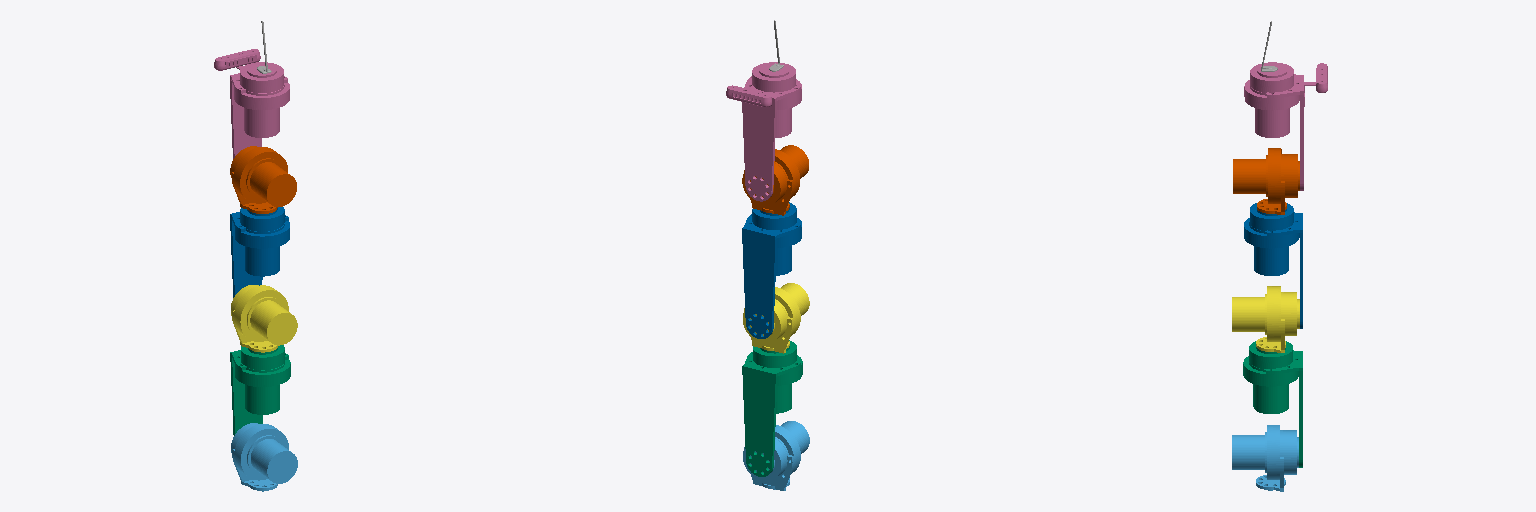
The robot description file, URDF, robot "simple7sky":
<?xml version="1.0" ?>
<!-- =================================================================================== -->
<!-- |    This document was autogenerated by xacro from simple7sky.xacro               | -->
<!-- |    EDITING THIS FILE BY HAND IS NOT RECOMMENDED                                 | -->
<!-- =================================================================================== -->
<robot name="simple7sky">
  <link name="base_link">
    <inertial>
      <origin rpy="0 0 0" xyz="6.16526679736714e-15 5.050387435335943e-06 0.06094638477109512"/>
      <mass value="18.250474833074623"/>
      <inertia ixx="0.085361" ixy="0.0" ixz="0.0" iyy="0.108511" iyz="5e-06" izz="0.096599"/>
    </inertial>
    <visual>
      <origin rpy="0 0 0" xyz="0 0 0"/>
      <geometry>
        <mesh filename="meshes_simple7sky/base_link.stl" scale="0.001 0.001 0.001"/>
      </geometry>
      <material name="silver"/>
    </visual>
    <collision>
      <origin rpy="0 0 0" xyz="0 0 0"/>
      <geometry>
        <mesh filename="meshes_simple7sky/base_link.stl" scale="0.001 0.001 0.001"/>
      </geometry>
    </collision>
  </link>
  <link name="jHor_1">
    <inertial>
      <origin rpy="0 0 0" xyz="-4.8107555643006375e-12 -0.002612981250012781 0.06374127790658082"/>
      <mass value="5.564807768189837"/>
      <inertia ixx="0.009595" ixy="0.0" ixz="-0.0" iyy="0.006139" iyz="0.000184" izz="0.008949"/>
    </inertial>
    <visual>
      <origin rpy="0 0 0" xyz="-0.0 0.0 -0.172"/>
      <geometry>
        <mesh filename="meshes_simple7sky/jHor_1.stl" scale="0.001 0.001 0.001"/>
      </geometry>
      <material name="silver"/>
    </visual>
    <collision>
      <origin rpy="0 0 0" xyz="-0.0 0.0 -0.172"/>
      <geometry>
        <mesh filename="meshes_simple7sky/jHor_1.stl" scale="0.001 0.001 0.001"/>
      </geometry>
    </collision>
  </link>
  <link name="jVert_1">
    <inertial>
      <origin rpy="0 0 0" xyz="-6.0049164284592393e-05 -0.04561655987937348 0.1586778161452157"/>
      <mass value="6.178248990841839"/>
      <inertia ixx="0.018277" ixy="-3e-06" ixz="4e-06" iyy="0.016375" iyz="0.002854" izz="0.007856"/>
    </inertial>
    <visual>
      <origin rpy="0 0 0" xyz="-0.0 -0.0546 -0.23846"/>
      <geometry>
        <mesh filename="meshes_simple7sky/jVert_1.stl" scale="0.001 0.001 0.001"/>
      </geometry>
      <material name="silver"/>
    </visual>
    <collision>
      <origin rpy="0 0 0" xyz="-0.0 -0.0546 -0.23846"/>
      <geometry>
        <mesh filename="meshes_simple7sky/jVert_1.stl" scale="0.001 0.001 0.001"/>
      </geometry>
    </collision>
  </link>
  <link name="jHor_2">
    <inertial>
      <origin rpy="0 0 0" xyz="-2.840068382461294e-06 -0.0026129392168440235 0.06374088361947128"/>
      <mass value="5.564807768189837"/>
      <inertia ixx="0.009595" ixy="-4e-06" ixz="0.0" iyy="0.006139" iyz="0.000184" izz="0.008949"/>
    </inertial>
    <visual>
      <origin rpy="0 0 0" xyz="7e-05 -0.0011 -0.46446"/>
      <geometry>
        <mesh filename="meshes_simple7sky/jHor_2.stl" scale="0.001 0.001 0.001"/>
      </geometry>
      <material name="silver"/>
    </visual>
    <collision>
      <origin rpy="0 0 0" xyz="7e-05 -0.0011 -0.46446"/>
      <geometry>
        <mesh filename="meshes_simple7sky/jHor_2.stl" scale="0.001 0.001 0.001"/>
      </geometry>
    </collision>
  </link>
  <link name="jVert_2">
    <inertial>
      <origin rpy="0 0 0" xyz="-0.00011250550588334606 -0.045616456265365965 0.1586784218581061"/>
      <mass value="6.178248990841839"/>
      <inertia ixx="0.018277" ixy="-5e-06" ixz="7e-06" iyy="0.016375" iyz="0.002854" izz="0.007856"/>
    </inertial>
    <visual>
      <origin rpy="0 0 0" xyz="7e-06 -0.0557 -0.530919"/>
      <geometry>
        <mesh filename="meshes_simple7sky/jVert_2.stl" scale="0.001 0.001 0.001"/>
      </geometry>
      <material name="silver"/>
    </visual>
    <collision>
      <origin rpy="0 0 0" xyz="7e-06 -0.0557 -0.530919"/>
      <geometry>
        <mesh filename="meshes_simple7sky/jVert_2.stl" scale="0.001 0.001 0.001"/>
      </geometry>
    </collision>
  </link>
  <link name="jHor_3">
    <inertial>
      <origin rpy="0 0 0" xyz="-6.410501020342579e-06 -0.002612813850000863 0.06374148933236179"/>
      <mass value="5.564807768189837"/>
      <inertia ixx="0.009595" ixy="-8e-06" ixz="0.0" iyy="0.006139" iyz="0.000184" izz="0.008949"/>
    </inertial>
    <visual>
      <origin rpy="0 0 0" xyz="0.000138 -0.0022 -0.756919"/>
      <geometry>
        <mesh filename="meshes_simple7sky/jHor_3.stl" scale="0.001 0.001 0.001"/>
      </geometry>
      <material name="silver"/>
    </visual>
    <collision>
      <origin rpy="0 0 0" xyz="0.000138 -0.0022 -0.756919"/>
      <geometry>
        <mesh filename="meshes_simple7sky/jHor_3.stl" scale="0.001 0.001 0.001"/>
      </geometry>
    </collision>
  </link>
  <link name="joint7_1">
    <inertial>
      <origin rpy="0 0 0" xyz="-0.000150609344771667 -0.04097073665289449 0.16118762381583218"/>
      <mass value="6.5348381432276215"/>
      <inertia ixx="0.021508" ixy="-1.4e-05" ixz="6e-06" iyy="0.017368" iyz="0.00151" izz="0.010579"/>
    </inertial>
    <visual>
      <origin rpy="0 0 0" xyz="1.2e-05 -0.0568 -0.823379"/>
      <geometry>
        <mesh filename="meshes_simple7sky/joint7_1.stl" scale="0.001 0.001 0.001"/>
      </geometry>
      <material name="silver"/>
    </visual>
    <collision>
      <origin rpy="0 0 0" xyz="1.2e-05 -0.0568 -0.823379"/>
      <geometry>
        <mesh filename="meshes_simple7sky/joint7_1.stl" scale="0.001 0.001 0.001"/>
      </geometry>
    </collision>
  </link>
  <link name="tool_1">
    <inertial>
      <origin rpy="0 0 0" xyz="-1.4920958159815947e-05 -0.004409125625040424 0.009807477265531439"/>
      <mass value="0.038676053324605233"/>
      <inertia ixx="2.8e-05" ixy="-0.0" ixz="0.0" iyy="2.6e-05" iyz="2e-06" izz="3e-06"/>
    </inertial>
    <visual>
      <origin rpy="0 0 0" xyz="0.000206 -0.0033 -1.049379"/>
      <geometry>
        <mesh filename="meshes_simple7sky/tool_1.stl" scale="0.001 0.001 0.001"/>
      </geometry>
      <material name="silver"/>
    </visual>
    <collision>
      <origin rpy="0 0 0" xyz="0.000206 -0.0033 -1.049379"/>
      <geometry>
        <mesh filename="meshes_simple7sky/tool_1.stl" scale="0.001 0.001 0.001"/>
      </geometry>
    </collision>
  </link>
  <joint name="obr1" type="revolute">
    <origin rpy="0 0 0" xyz="0.0 0.0 0.172"/>
    <parent link="base_link"/>
    <child link="jHor_1"/>
    <axis xyz="0.0 0.0 -1.0"/>
    <limit lower="-3.14" upper="3.14" effort="180.0" velocity="1.0"/>
  </joint>
  <joint name="obr2" type="revolute">
    <origin rpy="0 0 0" xyz="0.0 0.0546 0.06646"/>
    <parent link="jHor_1"/>
    <child link="jVert_1"/>
    <axis xyz="0.0 -1.0 0.0"/>
    <limit lower="-3.14" upper="3.14" effort="180.0" velocity="1.0"/>
  </joint>
  <joint name="obr3" type="revolute">
    <origin rpy="0 0 0" xyz="-7e-05 -0.0535 0.226"/>
    <parent link="jVert_1"/>
    <child link="jHor_2"/>
    <axis xyz="-0.0 -0.0 -1.0"/>
    <limit lower="-3.14" upper="3.14" effort="180.0" velocity="1.0"/>
  </joint>
  <joint name="obr4" type="revolute">
    <origin rpy="0 0 0" xyz="6.3e-05 0.0546 0.066459"/>
    <parent link="jHor_2"/>
    <child link="jVert_2"/>
    <axis xyz="-0.001154 -0.999999 0.0"/>
    <limit lower="-3.14" upper="3.14" effort="180.0" velocity="1.0"/>
  </joint>
  <joint name="obr5" type="revolute">
    <origin rpy="0 0 0" xyz="-0.000131 -0.0535 0.226"/>
    <parent link="jVert_2"/>
    <child link="jHor_3"/>
    <axis xyz="-0.0 -0.0 -1.0"/>
    <limit lower="-3.14" upper="3.14" effort="180.0" velocity="1.0"/>
  </joint>
  <joint name="obr6" type="revolute">
    <origin rpy="0 0 0" xyz="0.000126 0.0546 0.06646"/>
    <parent link="jHor_3"/>
    <child link="joint7_1"/>
    <axis xyz="-0.002308 -0.999997 0.0"/>
    <limit lower="-3.14" upper="3.14" effort="180.0" velocity="1.0"/>
  </joint>
  <joint name="obr7" type="revolute">
    <origin rpy="0 0 0" xyz="-0.000194 -0.0535 0.226"/>
    <parent link="joint7_1"/>
    <child link="tool_1"/>
    <axis xyz="-0.0 -0.0 -1.0"/>
    <limit lower="-3.14" upper="3.14" effort="180.0" velocity="1.0"/>
  </joint>
</robot>

--- What the picture shows (computed from the rendered views, not written in the file) ---
Views: 3 orthographic renders of the robot side by side, from view 1: azimuth 30°, elevation 25°; view 2: azimuth 150°, elevation 25°; view 3: azimuth 270°, elevation 25°.
Model simple7sky with 8 links and 7 joints (7 revolute), rooted at base_link, posed every joint at zero.
Links seen in each view (by area): view 1: joint7_1, jVert_1, jVert_2, jHor_1, jHor_2, jHor_3; view 2: joint7_1, jVert_1, jVert_2, jHor_2, jHor_1, jHor_3; view 3: joint7_1, jVert_1, jVert_2, jHor_2, jHor_1, jHor_3.
Link boxes in pixels (x1,y1,x2,y2): joint7_1: (214, 49, 289, 158); jVert_1: (230, 345, 290, 435); jVert_2: (230, 207, 289, 297); jHor_1: (231, 423, 297, 491); jHor_2: (231, 285, 297, 352); jHor_3: (230, 146, 296, 213); joint7_1: (726, 62, 801, 201); jVert_1: (742, 340, 802, 476); jVert_2: (742, 202, 801, 338); jHor_2: (743, 283, 809, 353); jHor_1: (743, 421, 809, 490); jHor_3: (742, 145, 808, 215); joint7_1: (1244, 62, 1327, 190); jVert_1: (1243, 341, 1302, 467); jVert_2: (1244, 203, 1302, 328); jHor_2: (1232, 286, 1299, 352); jHor_1: (1232, 425, 1298, 491); jHor_3: (1233, 148, 1299, 214).
Bounding box of the posed robot: 0.1072 × 0.1862 × 0.9904 m (x, y, z).
Meshes: 8 distinct files referenced, 7 mesh visuals loaded (7 binary STL); not drawn: 1 (reference not matched to a file when rendering).
